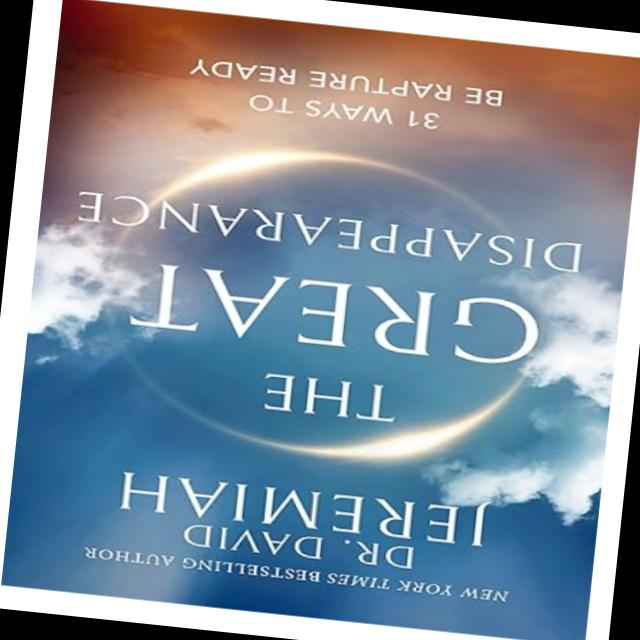titles-or-authors: (45, 175, 592, 449), (106, 454, 492, 582)
